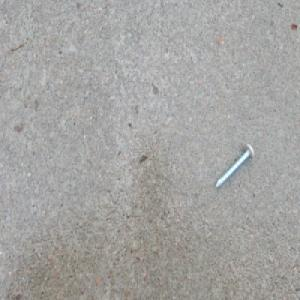Nail: (214, 143, 254, 192)
